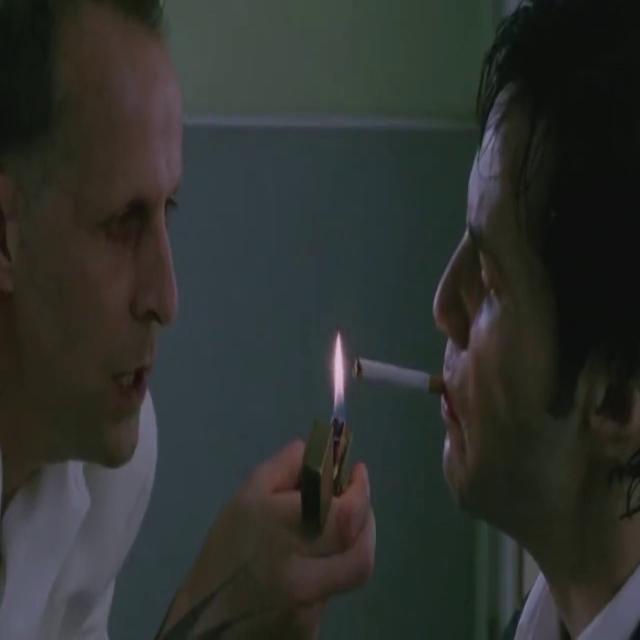Smooking: (346, 347, 442, 413)
